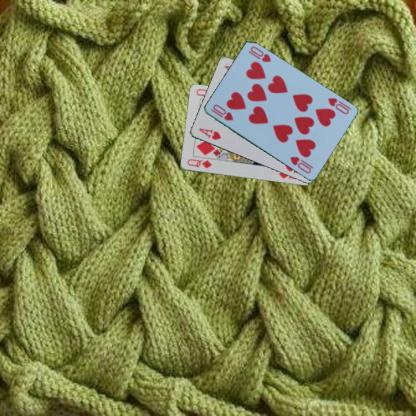10h: (325, 94, 350, 116), (208, 102, 235, 122)
Ah: (196, 125, 222, 141)
Qd: (184, 156, 214, 170)
